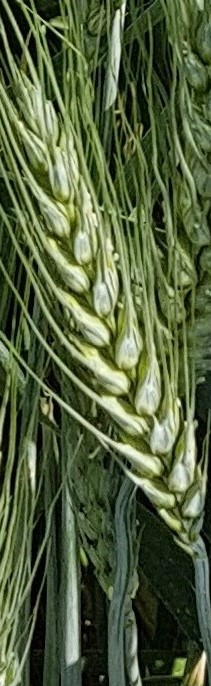Healthy Wheat: (17, 93, 211, 531)
